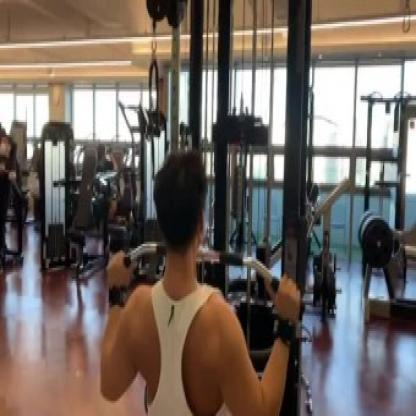Lat Pull Down: (88, 0, 320, 416)
